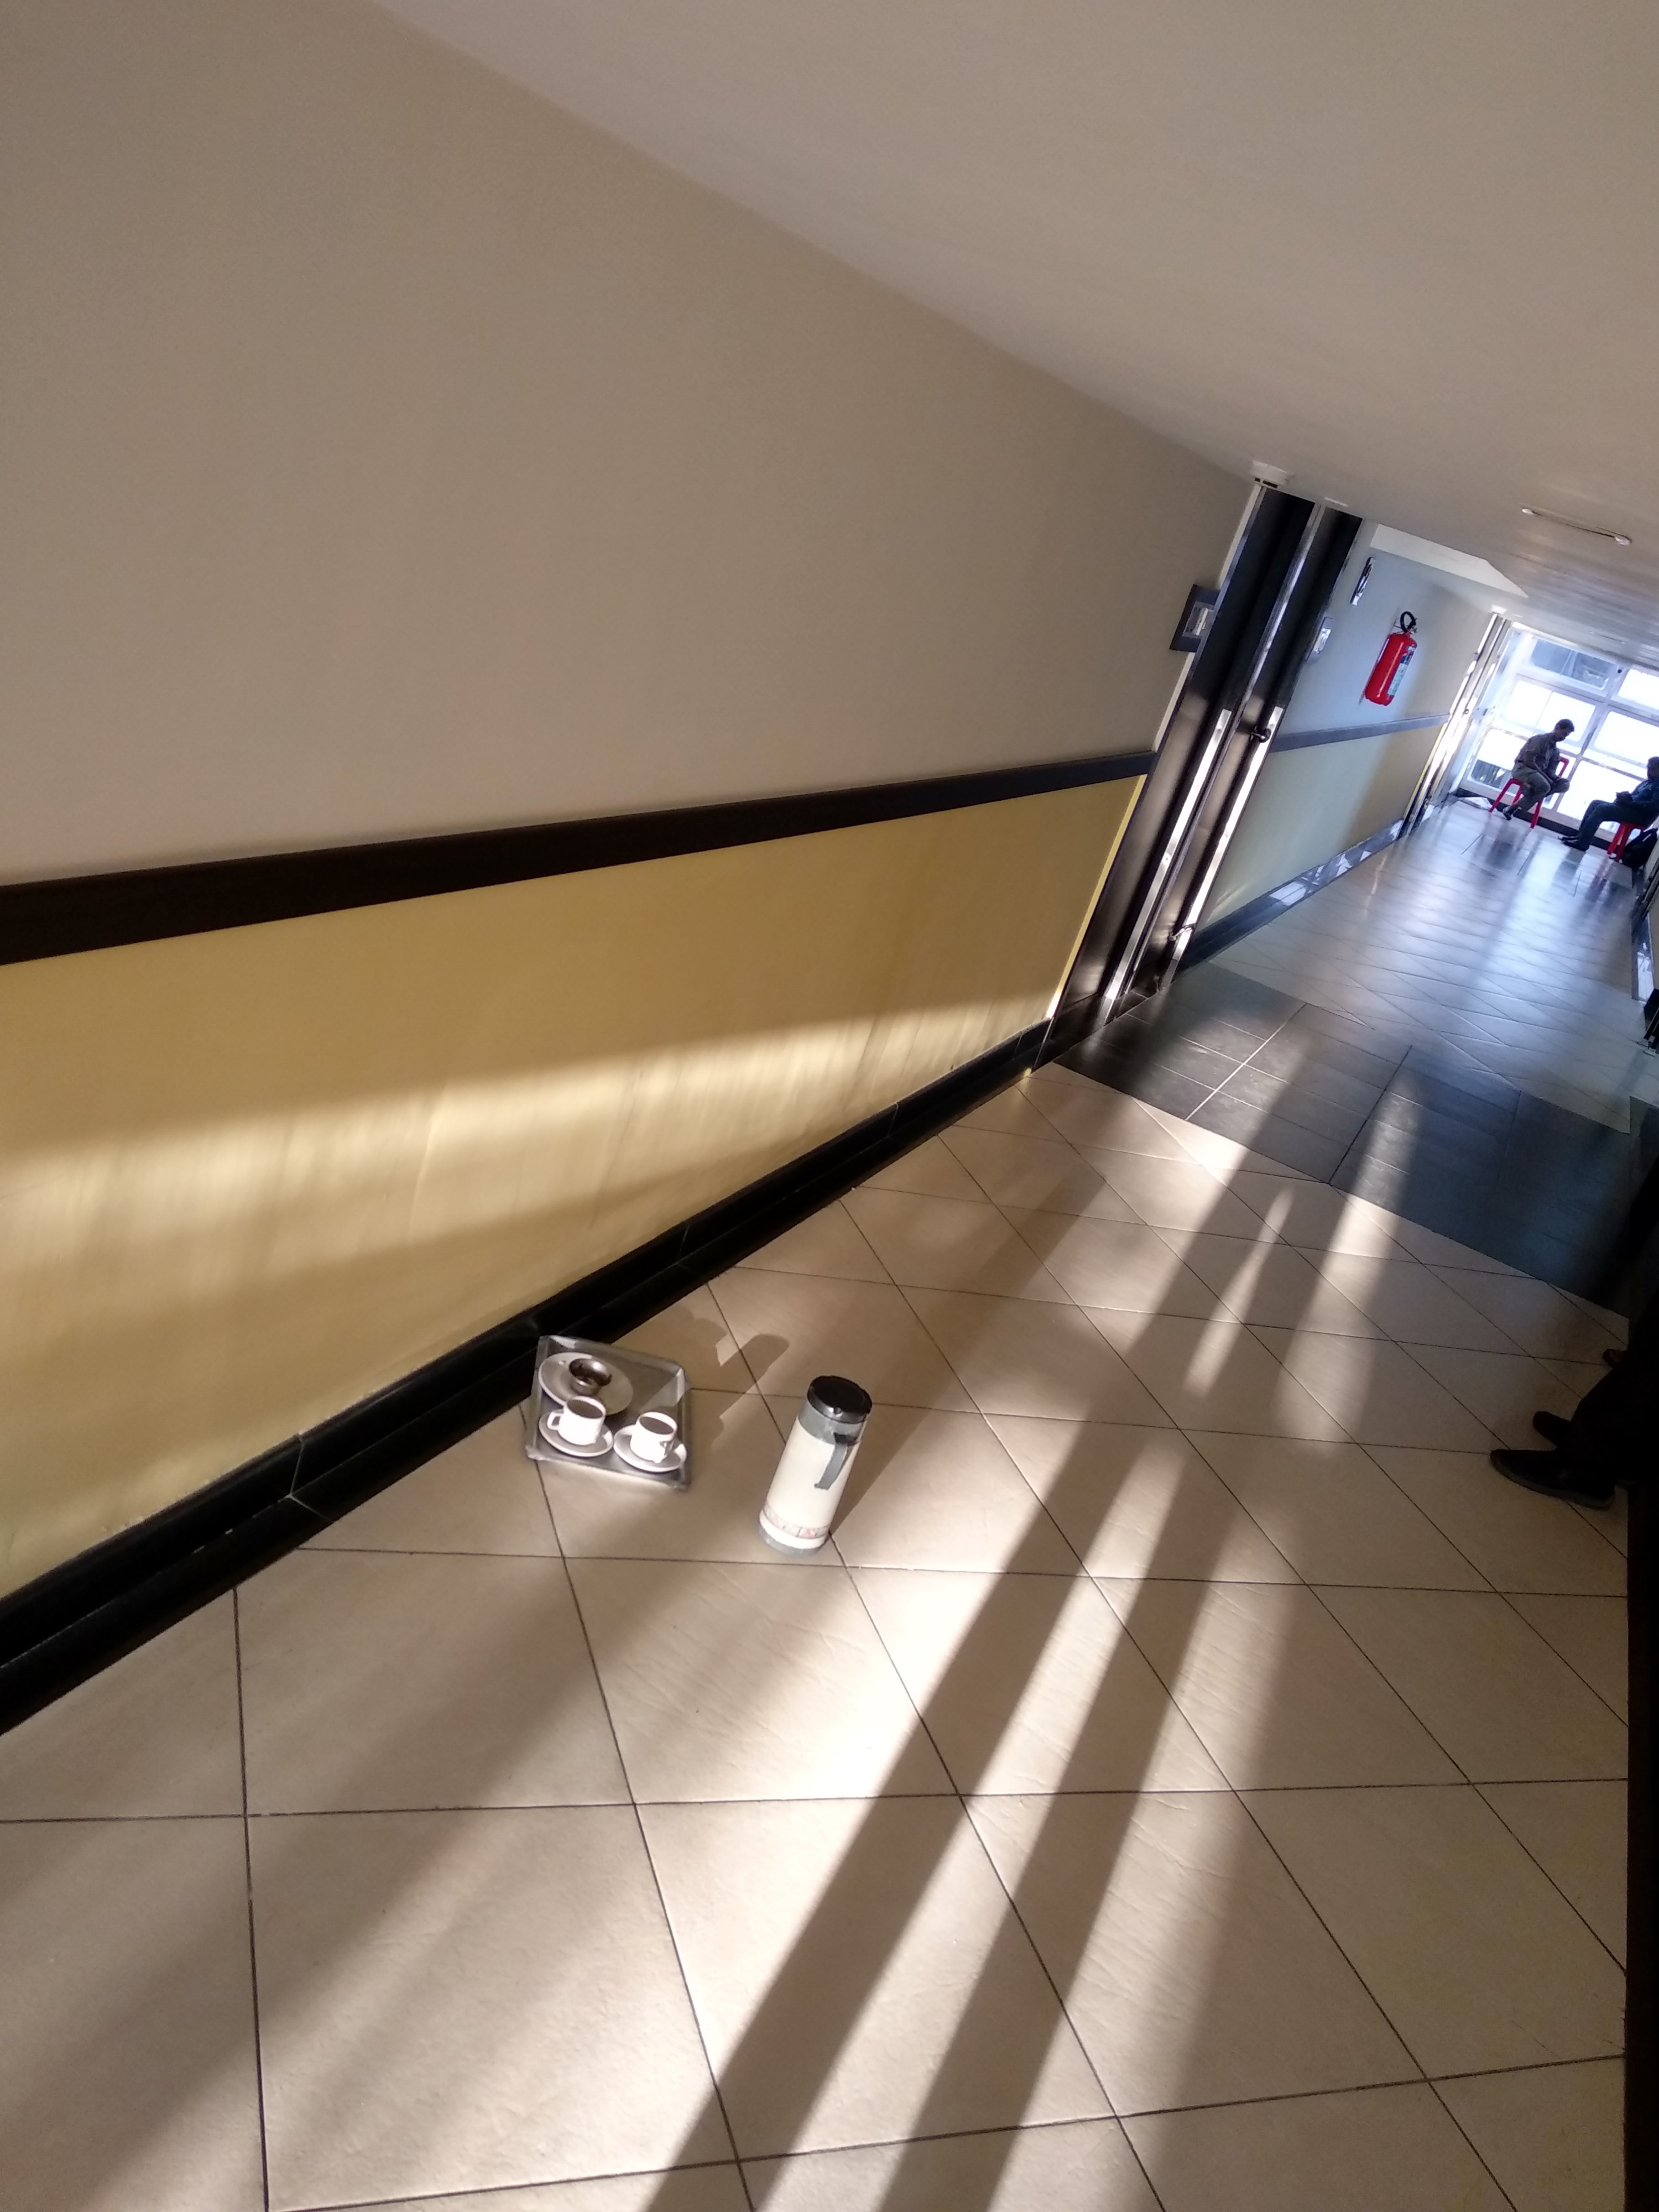CUP: (547, 1397, 608, 1447), (631, 1411, 681, 1465), (566, 1353, 617, 1390)
JUG: (758, 1376, 877, 1547)
